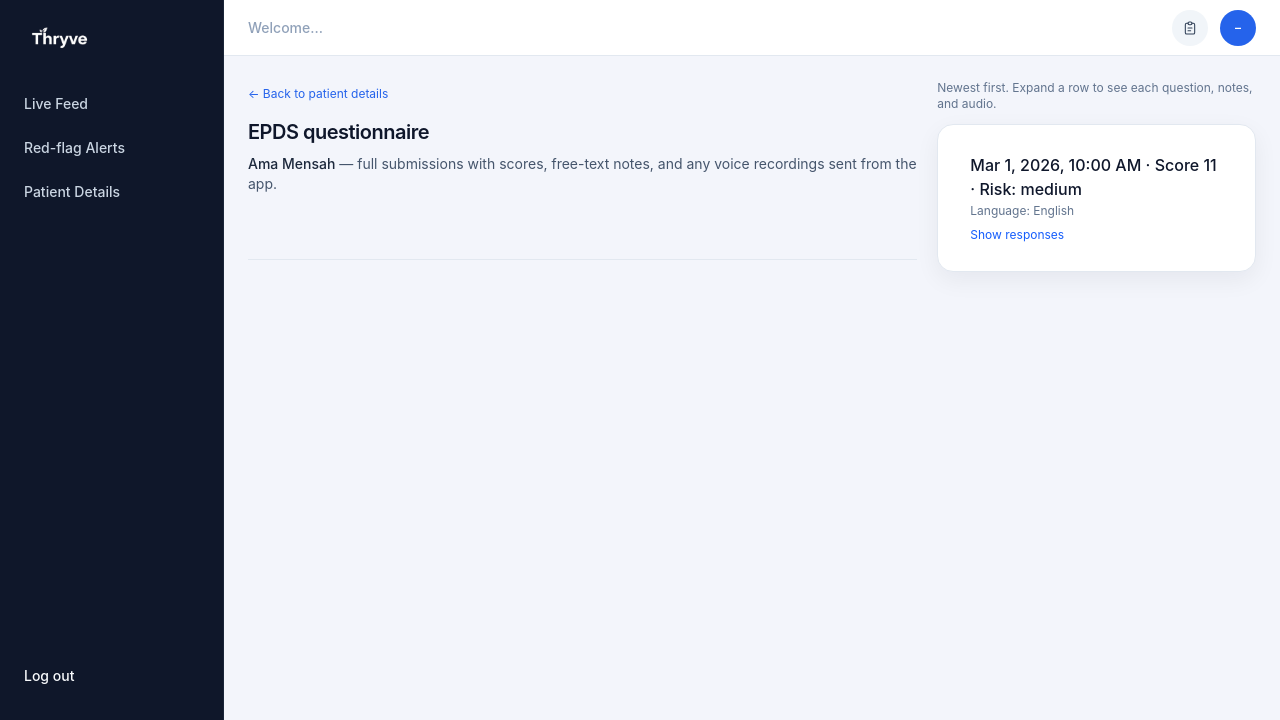
Test case: PatientEpdsResponsesPage › renders selected answer text and audio control
This screenshot has width=1280, height=720.
Click the text "Show responses" at point(1017, 235), box [970, 227, 1064, 243]
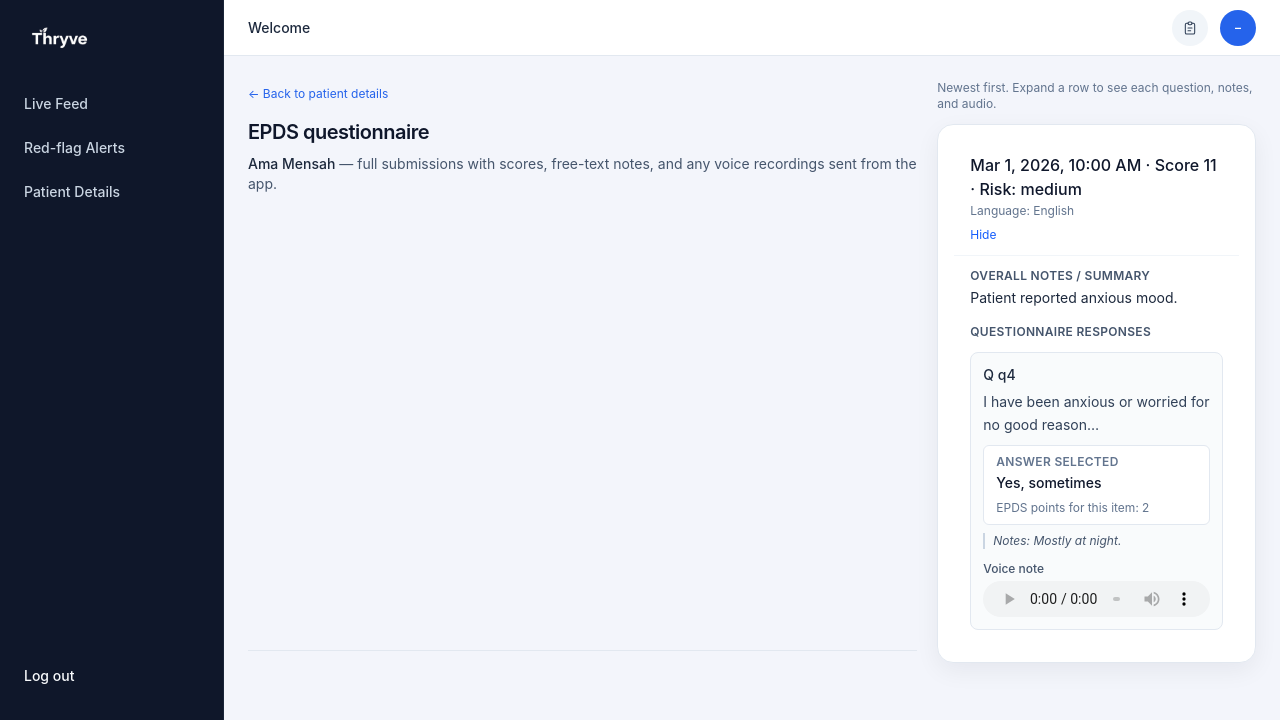
Now the text "Answer selected" is shown, box [996, 454, 1119, 468]
Now the text "Yes, sometimes" is shown, box [996, 474, 1102, 490]
Now the text "Notes: Mostly at night." is shown, box [983, 533, 1210, 549]
